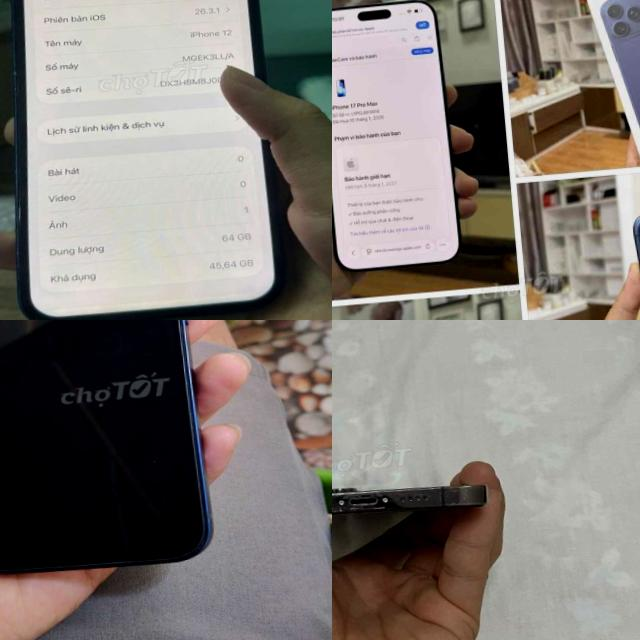gen_12_13: (0, 0, 313, 320), (0, 320, 215, 583)
gen_14: (332, 458, 511, 550)
gen_17: (332, 0, 473, 278)
